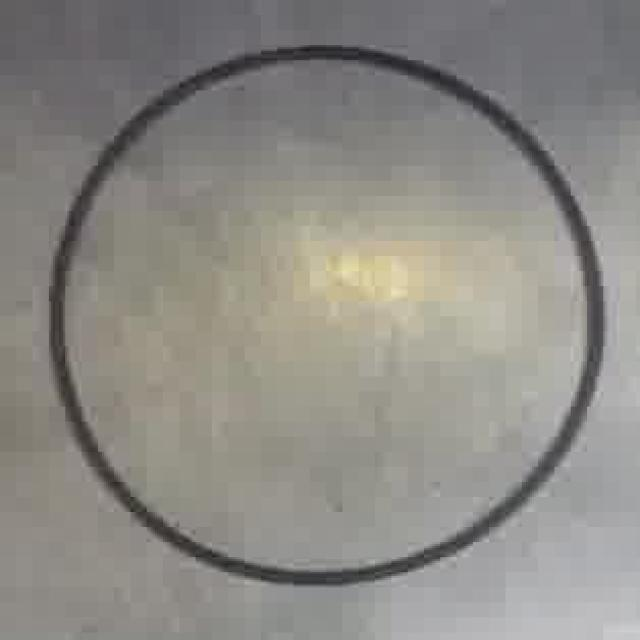Circle: (45, 42, 608, 586)
